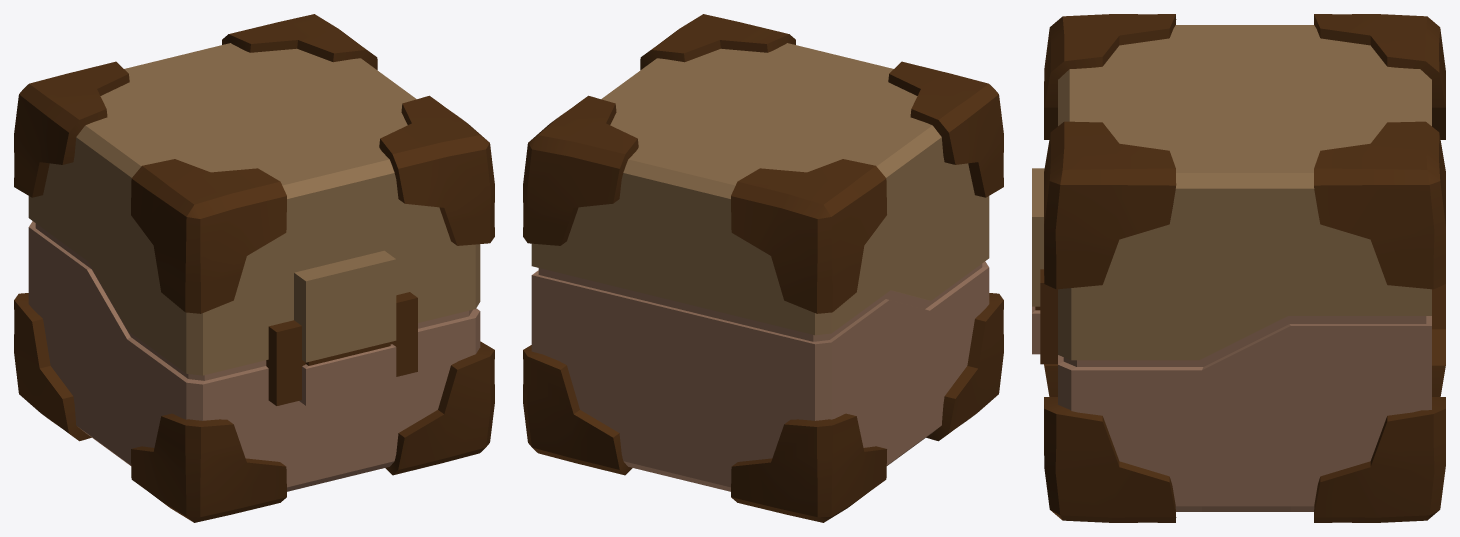
File: quaternius-ultimate-space-pickup-crate.glb
3 renders of one model, left to right at view 1: azimuth 30°, elevation 25°; view 2: azimuth 150°, elevation 25°; view 3: azimuth 270°, elevation 25°, orthographic. The views are drawn at different scales.
Visible parts, largest first — view 1: Pickup_Crate; view 2: Pickup_Crate; view 3: Pickup_Crate.
Part boxes in pixels (x1=…): Pickup_Crate: x1=14, y1=14, x2=494, y2=522; Pickup_Crate: x1=523, y1=14, x2=1003, y2=522; Pickup_Crate: x1=1032, y1=14, x2=1445, y2=522.
Size of the model in its own units: 0.8729 by 0.8576 by 0.899.
Materials: 1 (1 with a texture image).
